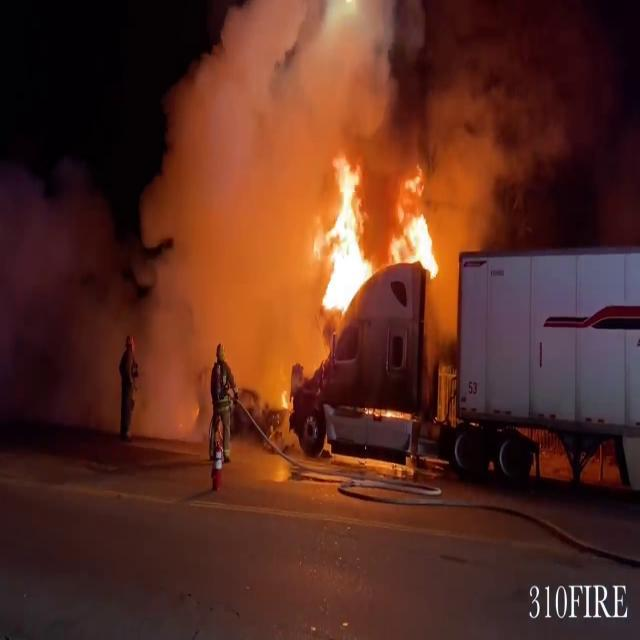Fire: (314, 158, 376, 318), (395, 182, 443, 286)
Smoke: (144, 1, 572, 432), (0, 168, 142, 429)
